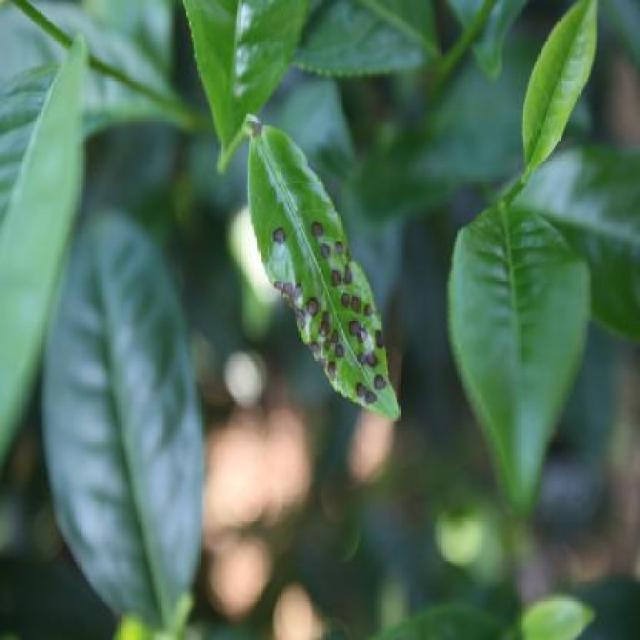Tea Mosquito bug infested leaf: (246, 119, 406, 438)
